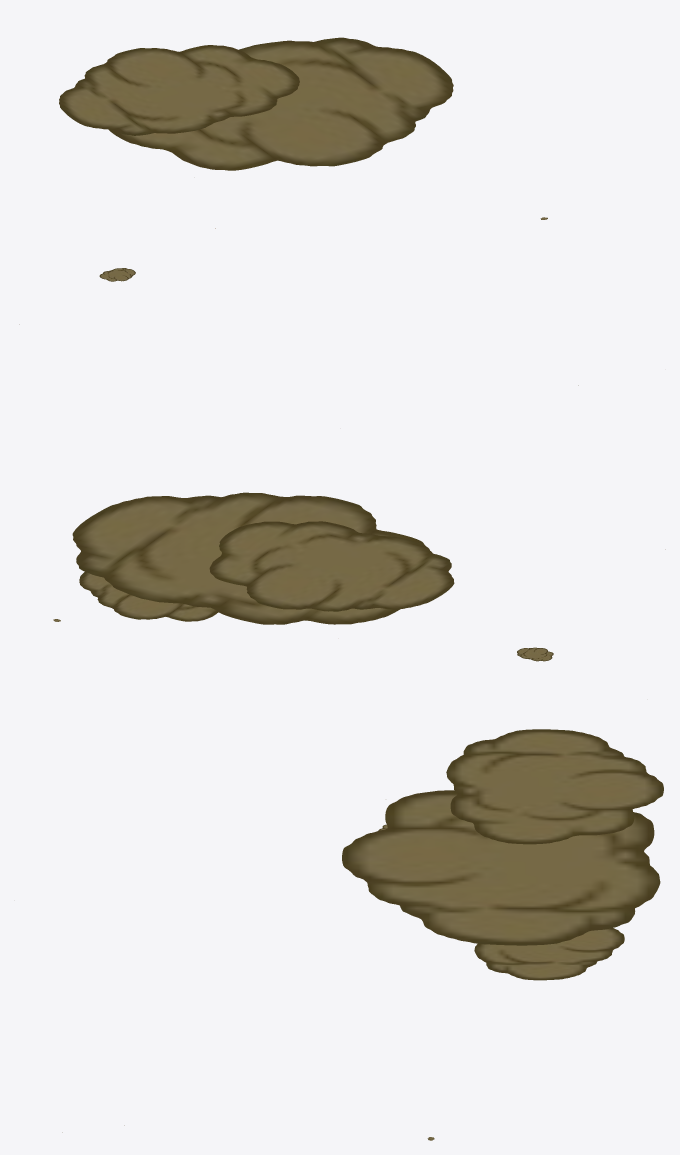
File: dust.glb
3 renders of one model, top to bottom at view 1: azimuth 30°, elevation 25°; view 2: azimuth 150°, elevation 25°; view 3: azimuth 270°, elevation 25°, orthographic. The views are drawn at different scales.
Parts seen in each view (by area): view 1: cloud10, cloud11; view 2: cloud10, cloud11, cloud8, cloud7; view 3: cloud10, cloud11, cloud8.
Part boxes in pixels (<box>): cloud10: <box>108,37,453,170</box>; cloud11: <box>59,45,299,135</box>; cloud10: <box>72,492,429,624</box>; cloud11: <box>209,521,454,611</box>; cloud8: <box>79,572,218,621</box>; cloud7: <box>517,647,553,661</box>; cloud10: <box>342,790,660,945</box>; cloud11: <box>446,729,663,844</box>; cloud8: <box>474,928,624,980</box>.
Bounding box in the file's own units: 2.16 × 0.7749 × 2.02.
1 material, 1 textured.
